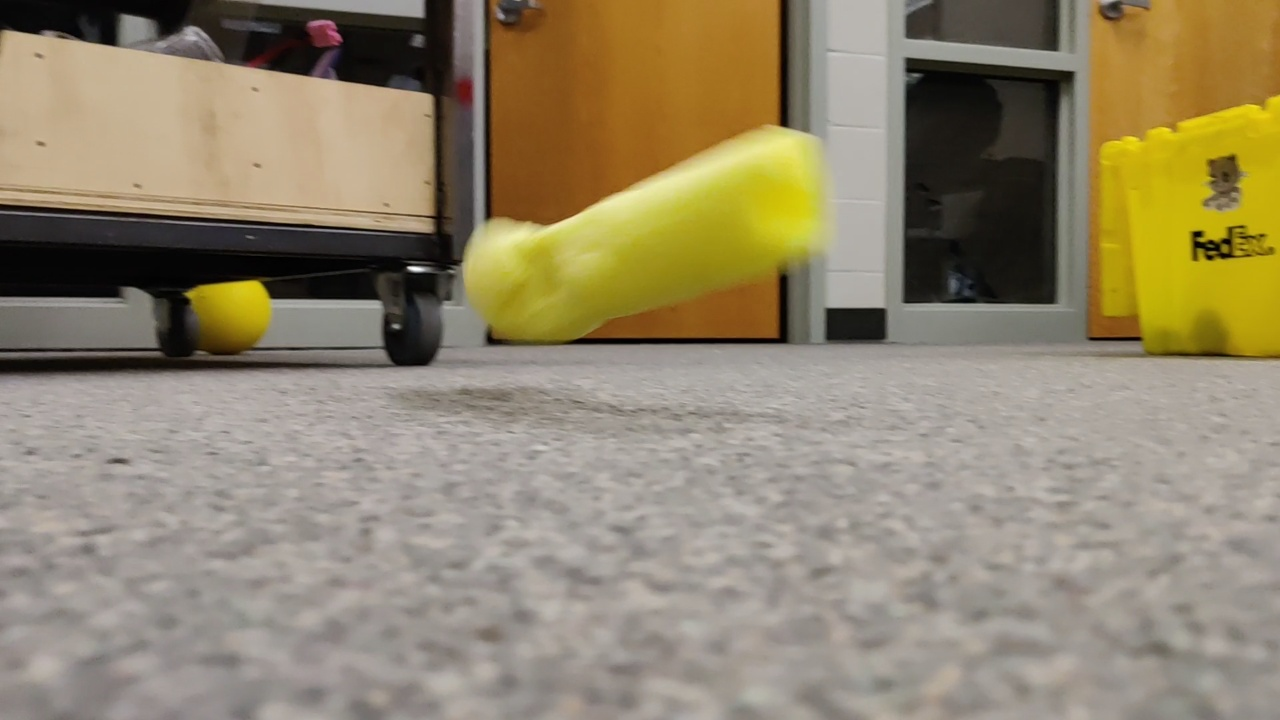Ball: (154, 279, 274, 358)
